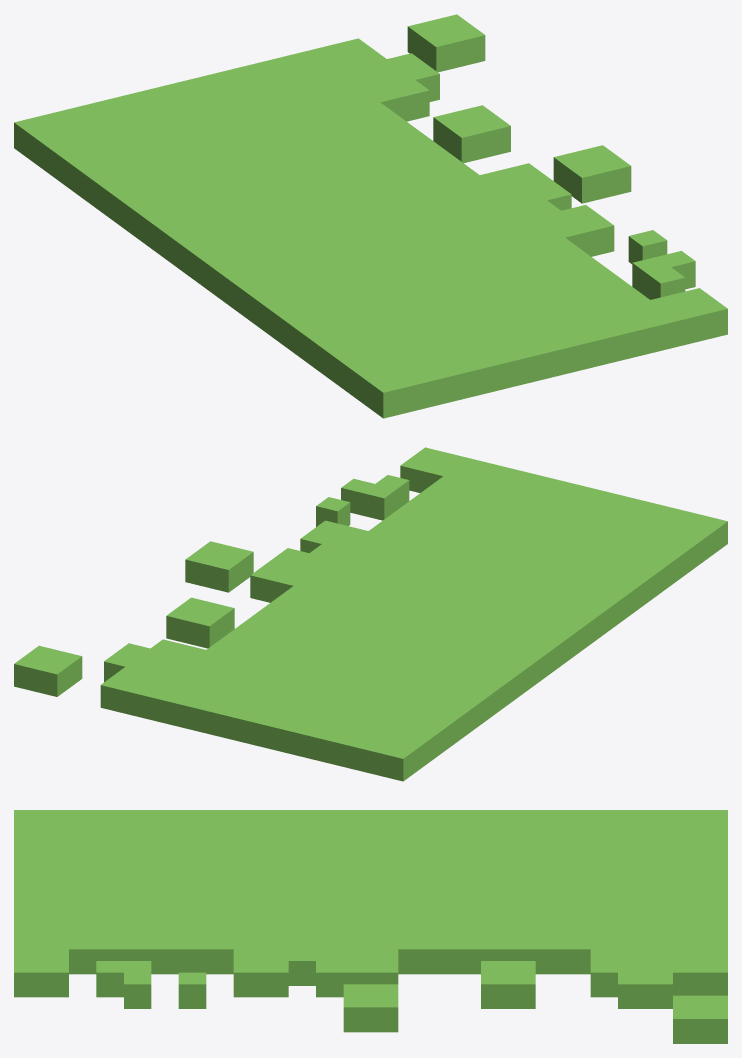
Rendered from GGJ Grass 2.obj.
The picture shows the model from 3 angles, top to bottom: view 1: azimuth 30°, elevation 25°; view 2: azimuth 150°, elevation 25°; view 3: azimuth 270°, elevation 25°; orthographic projection. The views are drawn at different scales.
Size of the model in its own units: 1.8 by 0.1 by 2.6.
Materials: 1 (1 with a texture image).
